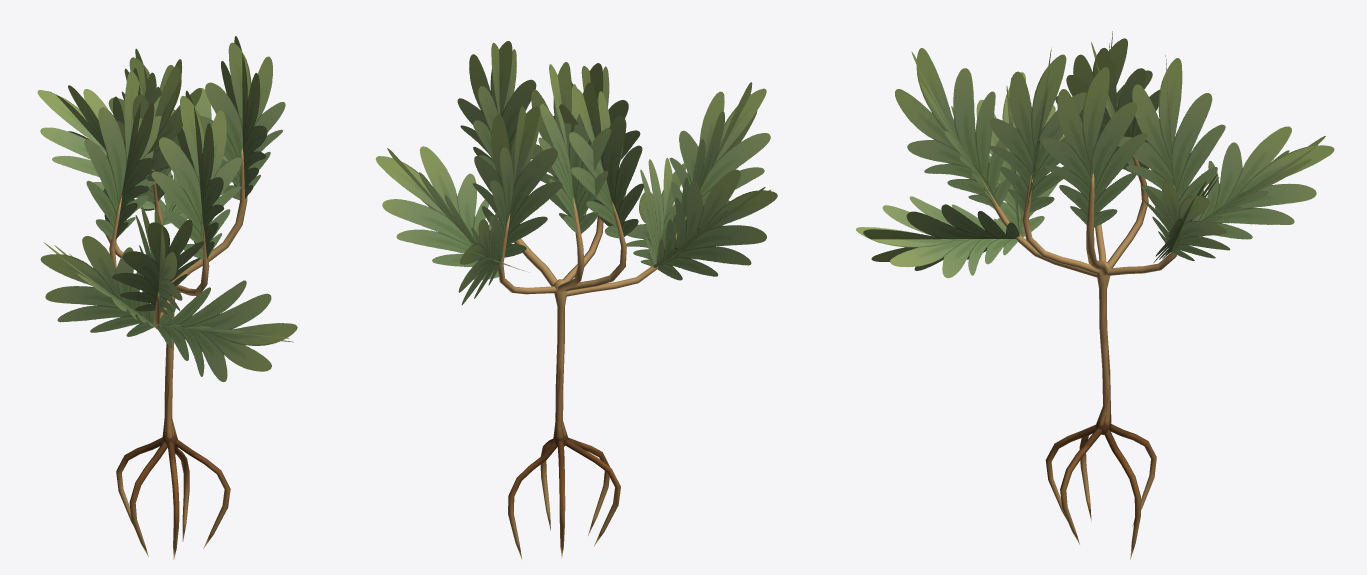
File: DTree1.fbx
3 views of the same model, side by side, from view 1: azimuth 30°, elevation 25°; view 2: azimuth 150°, elevation 25°; view 3: azimuth 270°, elevation 25° (orthographic). The views are drawn at different scales.
Visible parts, largest first — view 1: G_D1Leafs, G_D1Trunk; view 2: G_D1Leafs, G_D1Trunk; view 3: G_D1Leafs, G_D1Trunk.
Boxes of the visible parts, x1,y1,x2,y2 form: G_D1Leafs: (37,36,297,381); G_D1Trunk: (105,148,247,559); G_D1Leafs: (375,41,777,304); G_D1Trunk: (498,196,686,559); G_D1Leafs: (856,31,1334,278); G_D1Trunk: (976,157,1176,559).
Size of the model in its own units: 793 by 1167 by 1017.
